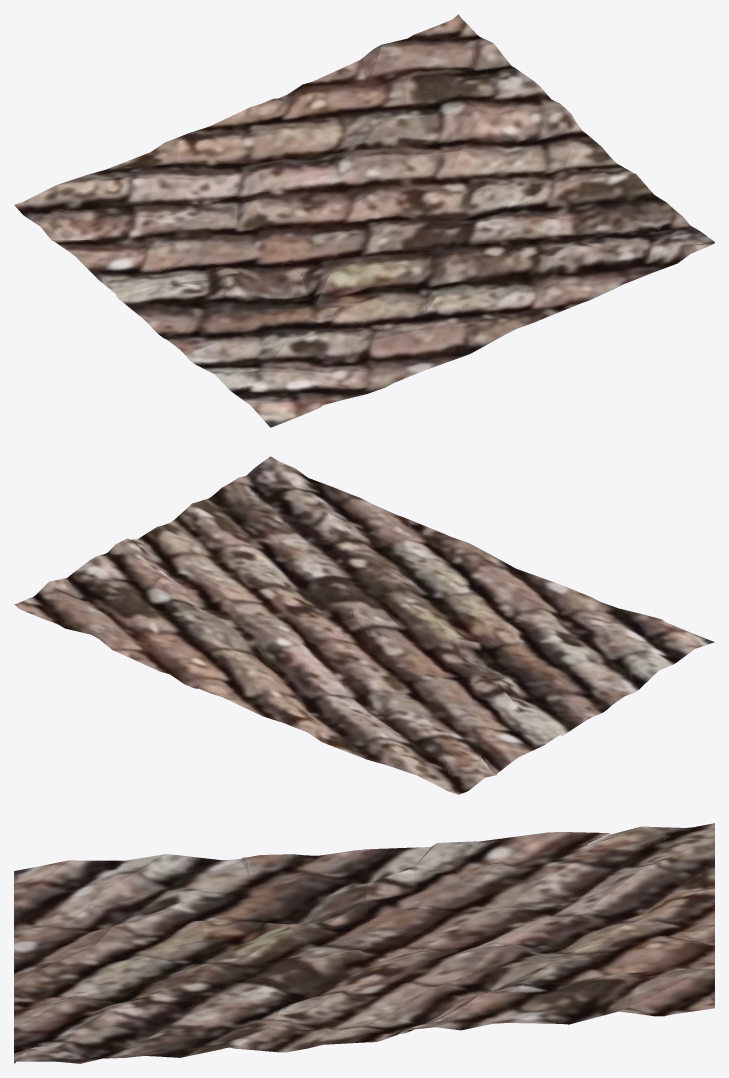
The picture shows the model from 3 angles, top to bottom: view 1: azimuth 30°, elevation 25°; view 2: azimuth 150°, elevation 25°; view 3: azimuth 270°, elevation 25°; orthographic projection. The views are drawn at different scales.
Bounding box in the file's own units: 1.67 × 0.423 × 1.67.
2 materials, 2 textured.
